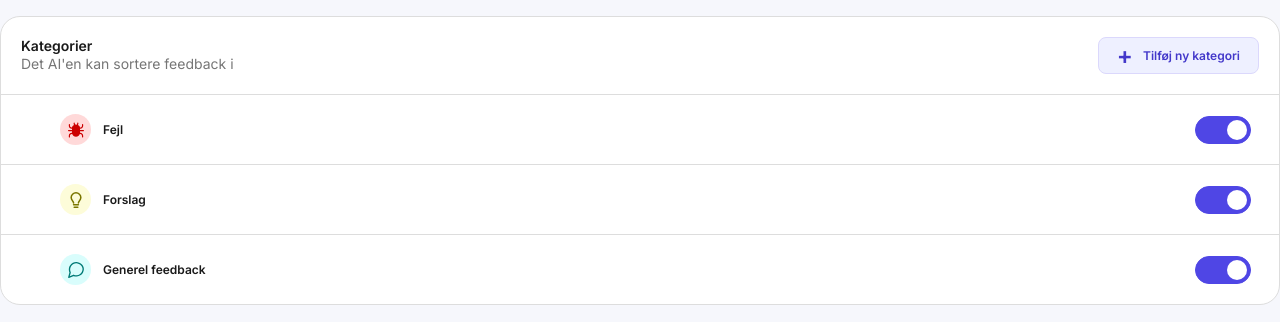
Test: CategorySettings – switching on and off (US3) › switches one category off and keeps it off when shown again
Later steps or results of the test are not shown.
Click the switch named "Generel feedback". click: (1223, 270)
box: [1195,256,1251,284]
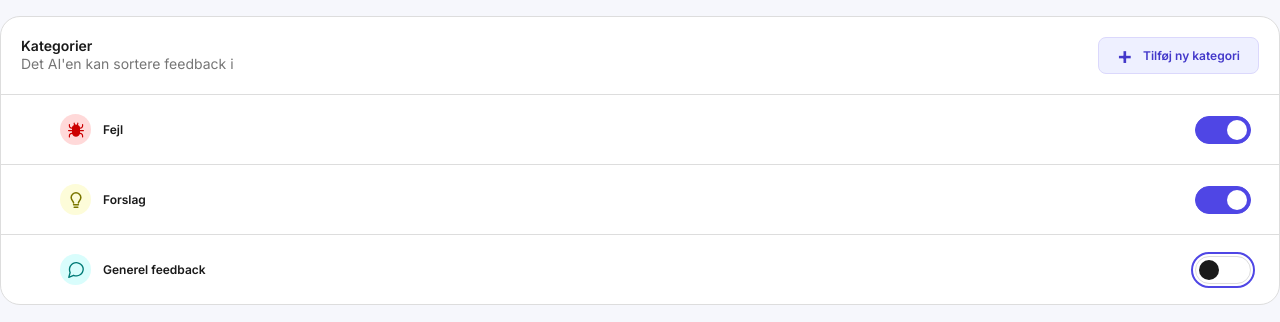
Check: the switch named "Generel feedback" is not checked, box [1195,256,1251,284]
